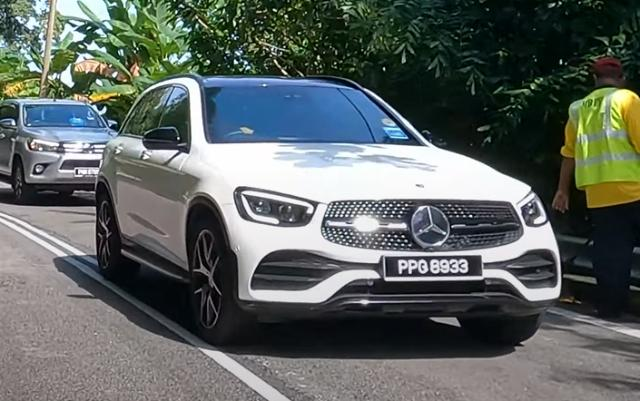License_Plate: (383, 254, 484, 282)
car: (95, 74, 564, 349), (1, 99, 119, 206)
